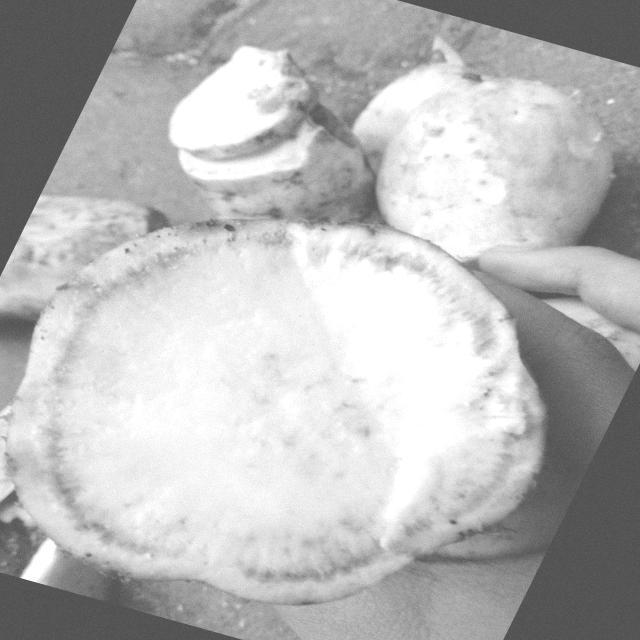Healthy Sweet Potato: (8, 221, 543, 604)
